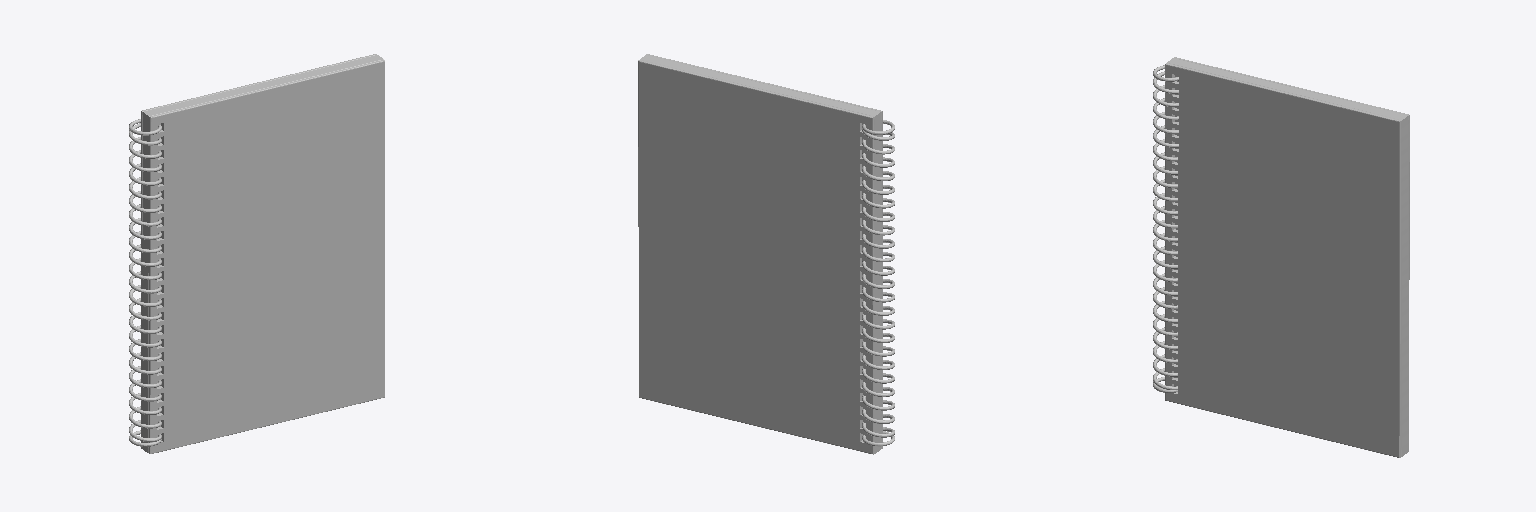
File: notebook.obj
3 views of the same model, side by side, from view 1: azimuth 30°, elevation 25°; view 2: azimuth 150°, elevation 25°; view 3: azimuth 330°, elevation 25° (orthographic).
Parts seen in each view (by area): view 1: default; view 2: default; view 3: default.
Boxes of the visible parts, x1,y1,x2,y2 form: default: [129, 54, 384, 453]; default: [638, 54, 894, 454]; default: [1153, 57, 1409, 457].
Bounding box in the file's own units: 21.11 × 27.22 × 2.44.